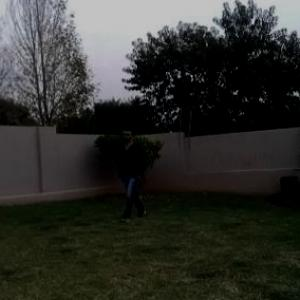follow: (117, 127, 149, 225)
